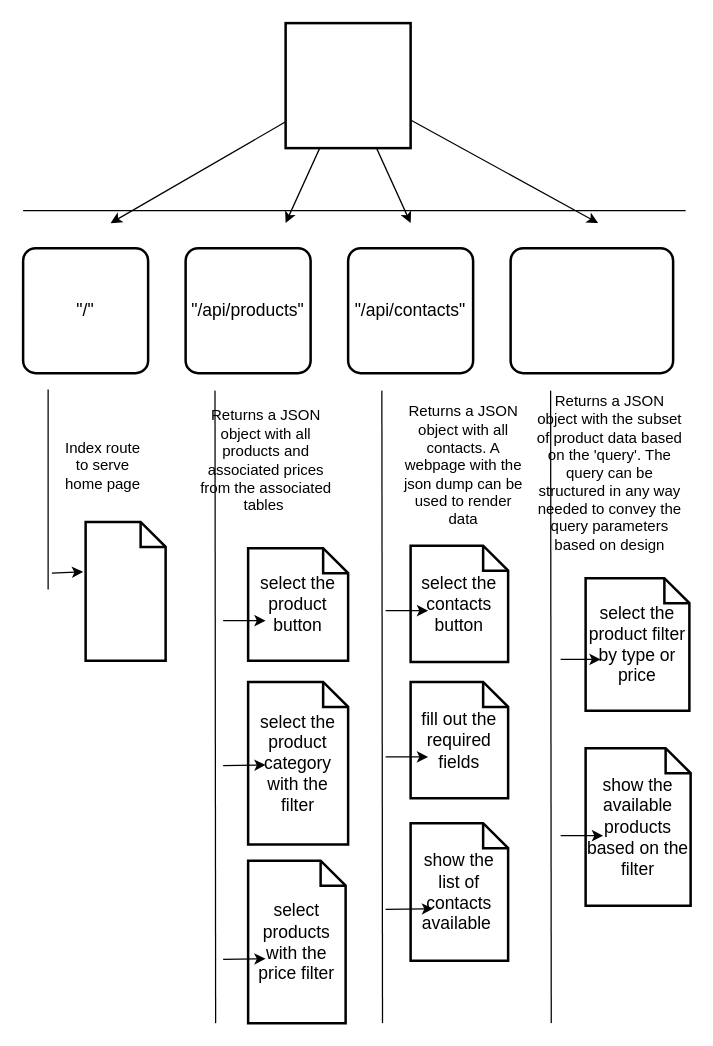
Image size: 713x1046. Some labels were removed from this diagram. The shapes that lost their labels are listed below. From the top down, each one's centre as x and y in pixels, then its label:
the point at 347,85: SERVER
the point at 591,310: "/api/productfilter /:query"
the point at 125,590: serves the home page
